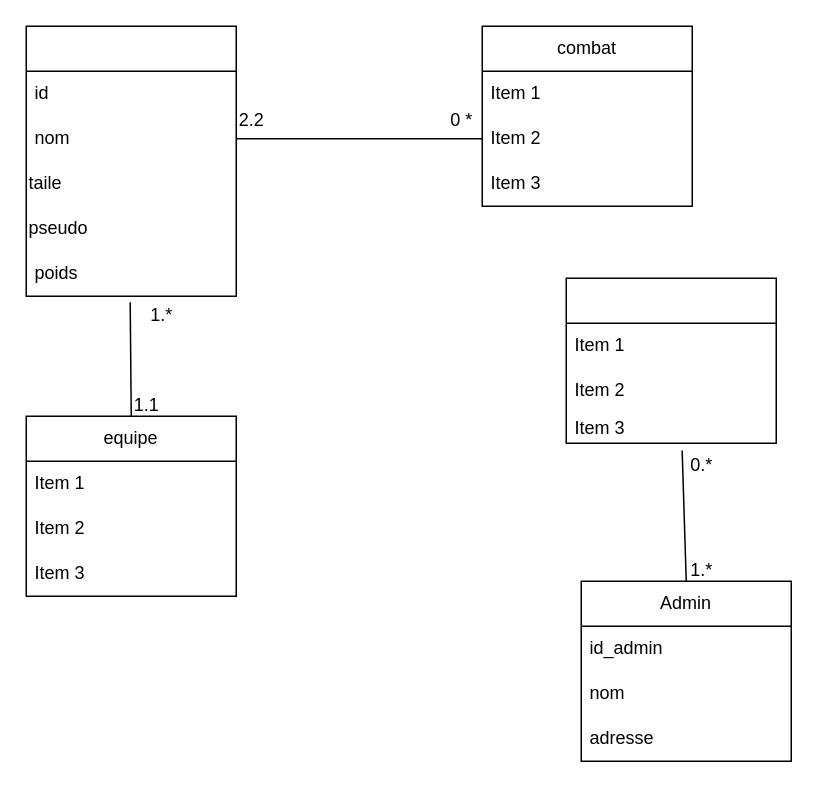
Some shapes in this 818 by 788 pixel diagram are drawn without their labels. Each missing label, with the box of its shape:
Actualite: (565, 277, 776, 443)
lutteur: (25, 25, 236, 296)
